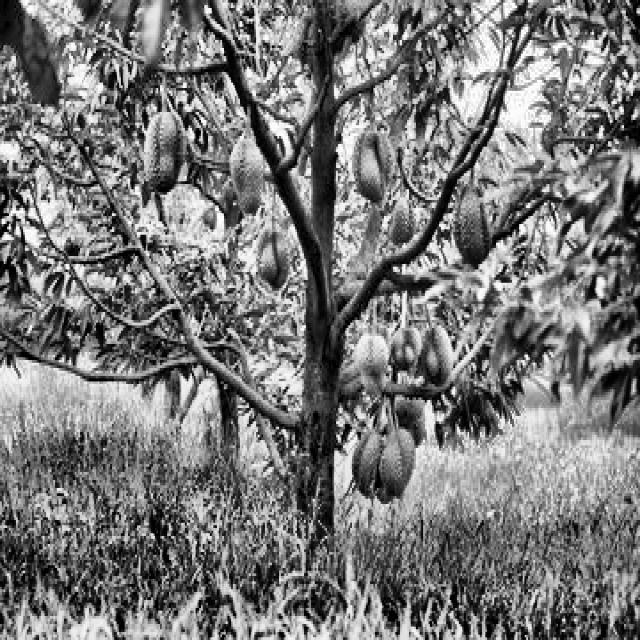arvore: (284, 2, 348, 588)
